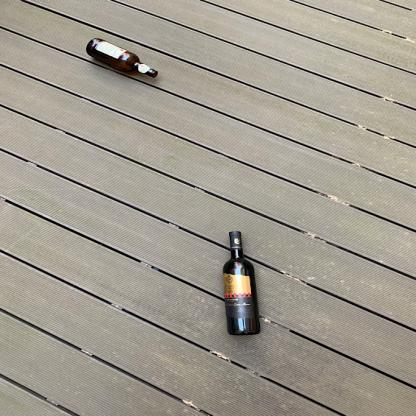trash: (216, 230, 272, 334), (83, 36, 164, 80)
